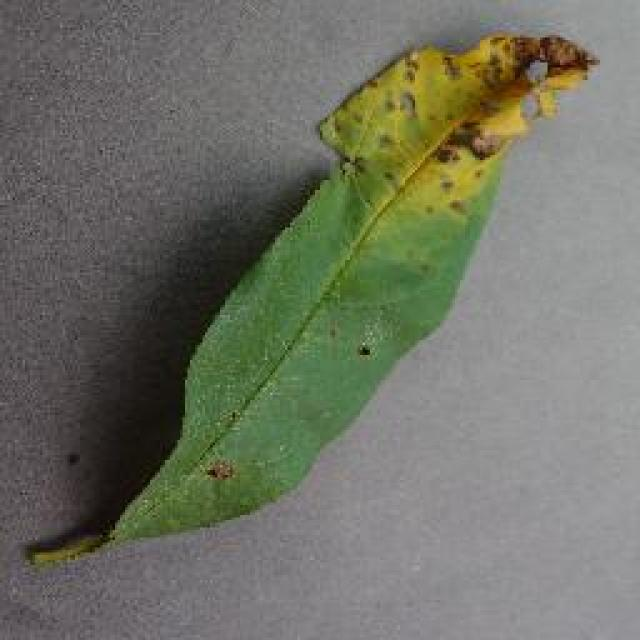Bacterial_spot: (300, 14, 605, 226), (195, 454, 242, 485), (350, 334, 377, 362)
